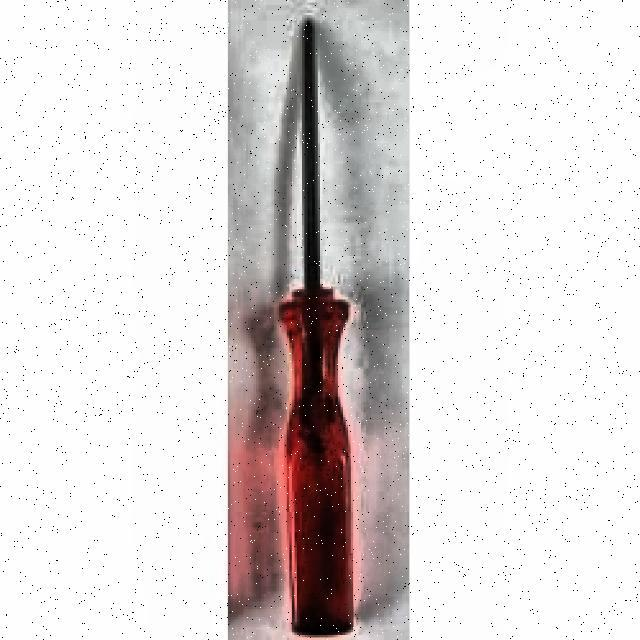screwdriver: (280, 17, 357, 635)
